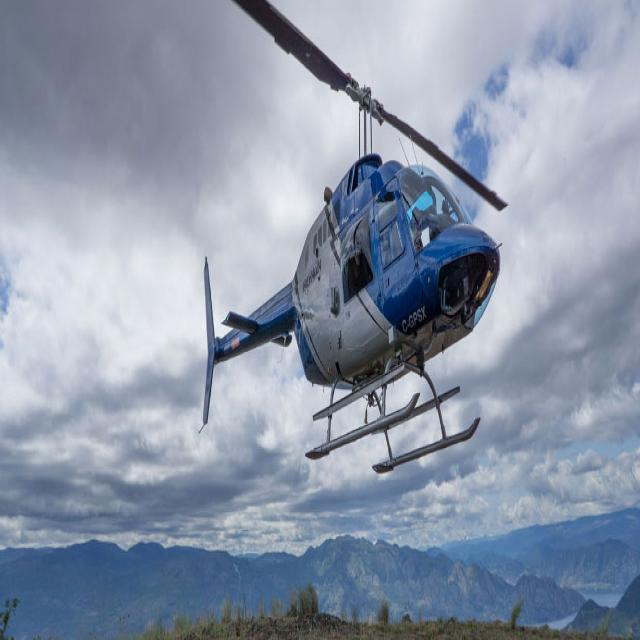helicopter: (188, 1, 511, 480)
